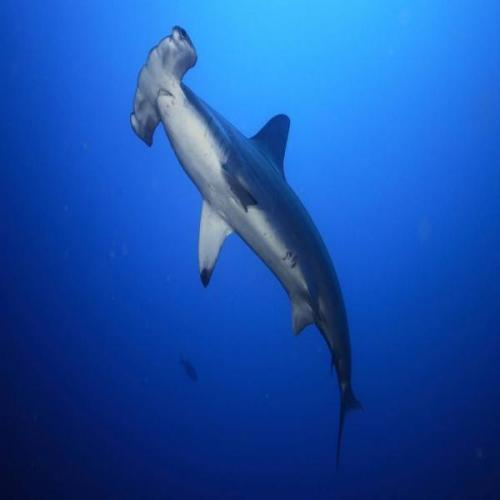shark-endangered: (129, 25, 366, 468)
